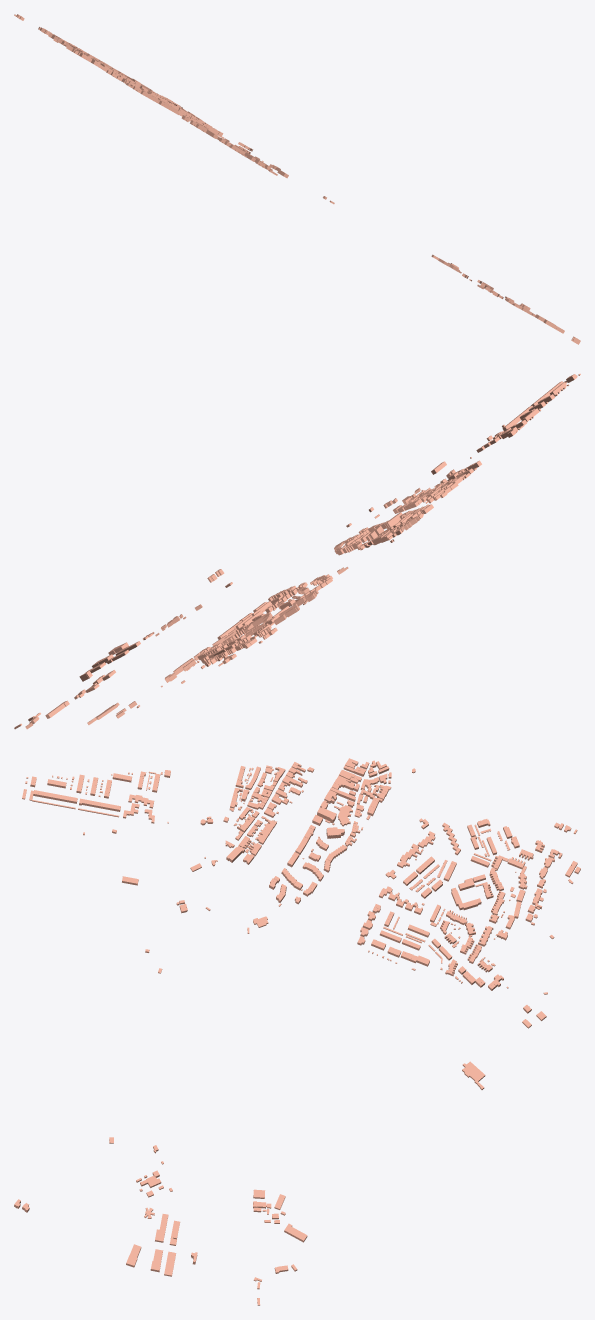
3 renders of one model, top to bottom at view 1: azimuth 30°, elevation 25°; view 2: azimuth 150°, elevation 25°; view 3: azimuth 270°, elevation 25°, orthographic. The views are drawn at different scales.
Size of the model in its own units: 987 by 754 by 1136.
